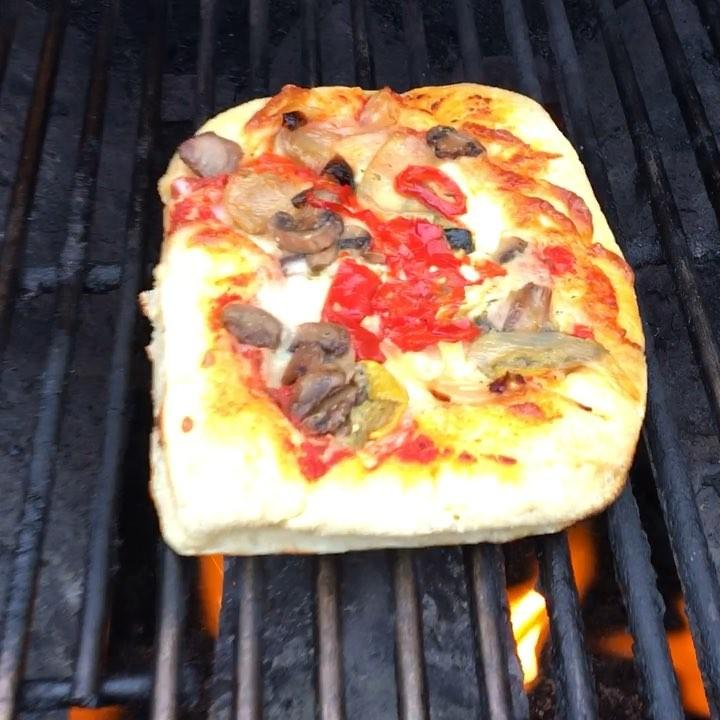Ham: (335, 127, 430, 203), (490, 278, 558, 339), (180, 128, 242, 184), (317, 92, 399, 125)
Mushroom: (303, 390, 363, 442), (273, 210, 343, 254), (285, 350, 342, 401), (215, 302, 285, 342), (300, 318, 351, 363), (425, 123, 478, 159), (493, 230, 531, 269), (330, 223, 376, 252)
Pizza: (143, 79, 642, 550)
Tomatoes: (379, 268, 476, 346), (325, 253, 386, 333), (398, 160, 464, 219), (378, 218, 446, 266)
